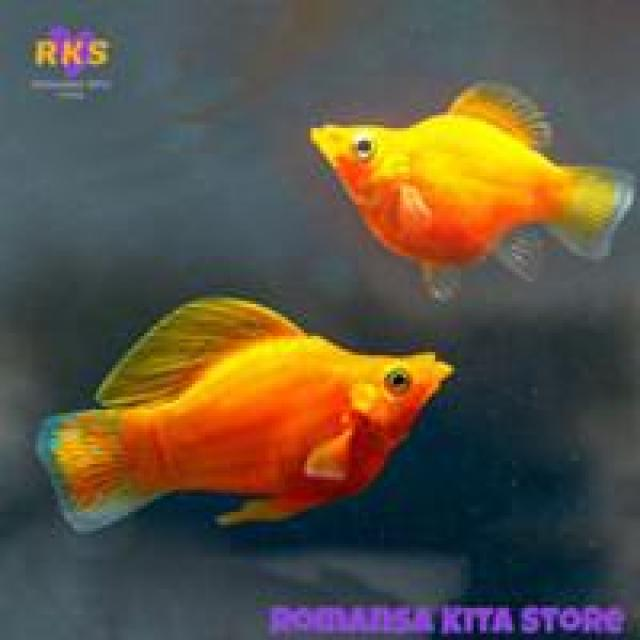PlatyFish: (16, 278, 461, 548), (297, 60, 640, 326)
